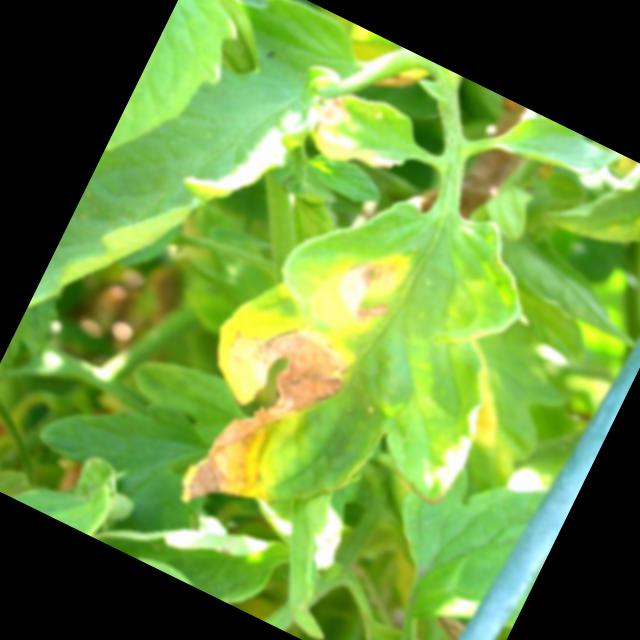Early_blight: (146, 286, 370, 546), (302, 89, 419, 190), (325, 231, 421, 337)
